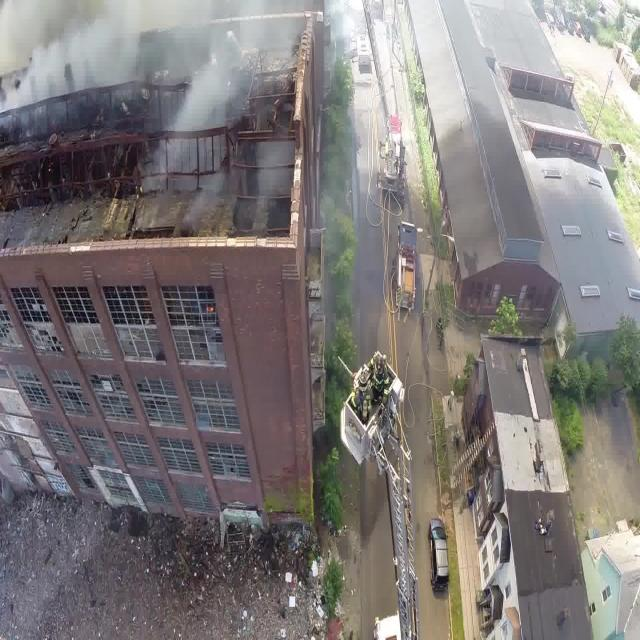Smoke: (22, 3, 330, 202)
